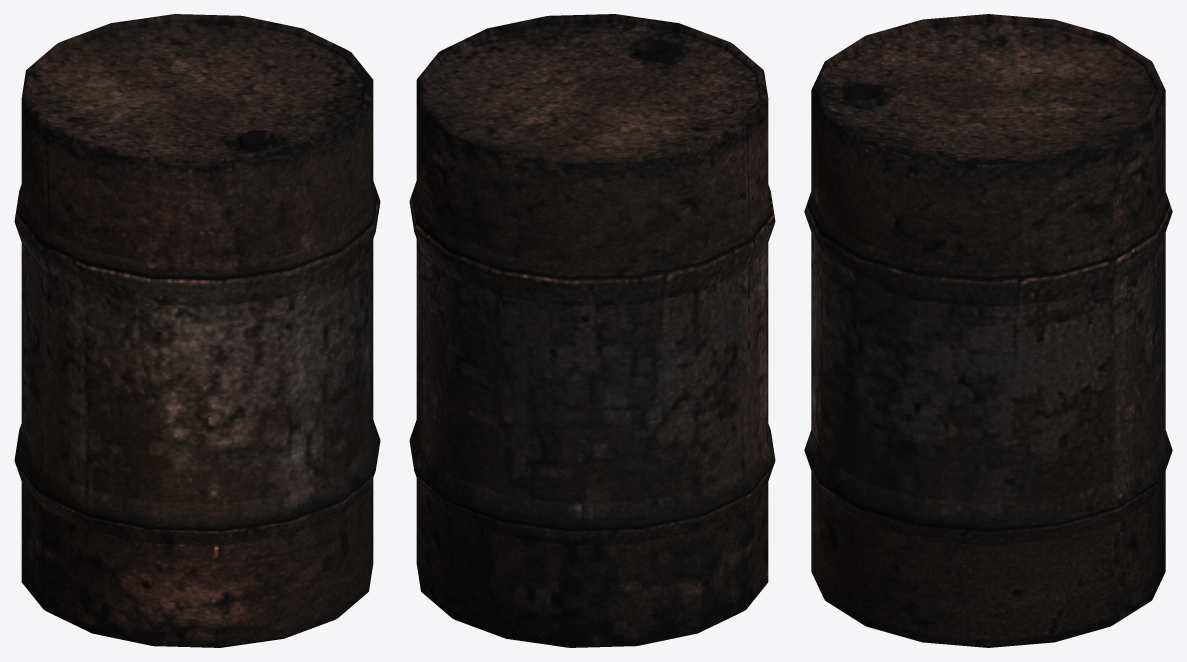
File: metal_barrel_3.obj
3 views of the same model, side by side, from view 1: azimuth 30°, elevation 25°; view 2: azimuth 150°, elevation 25°; view 3: azimuth 270°, elevation 25° (orthographic).
Parts seen in each view (by area): view 1: metal_barrel_3; view 2: metal_barrel_3; view 3: metal_barrel_3.
Part boxes in pixels (<box>): metal_barrel_3: <box>14,14,380,647</box>; metal_barrel_3: <box>409,14,775,647</box>; metal_barrel_3: <box>804,14,1172,647</box>.
Bounding box in the file's own units: 0.7488 × 1.09 × 0.7488.
